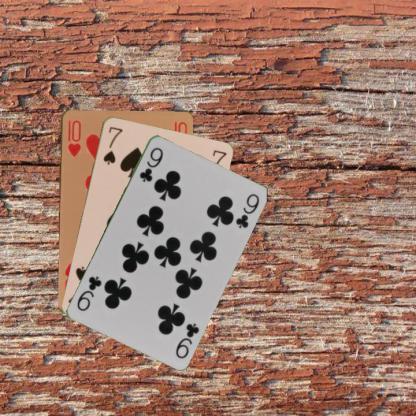10h: (65, 117, 82, 158)
7s: (100, 124, 124, 166)
9c: (172, 319, 201, 360), (136, 144, 165, 183)
